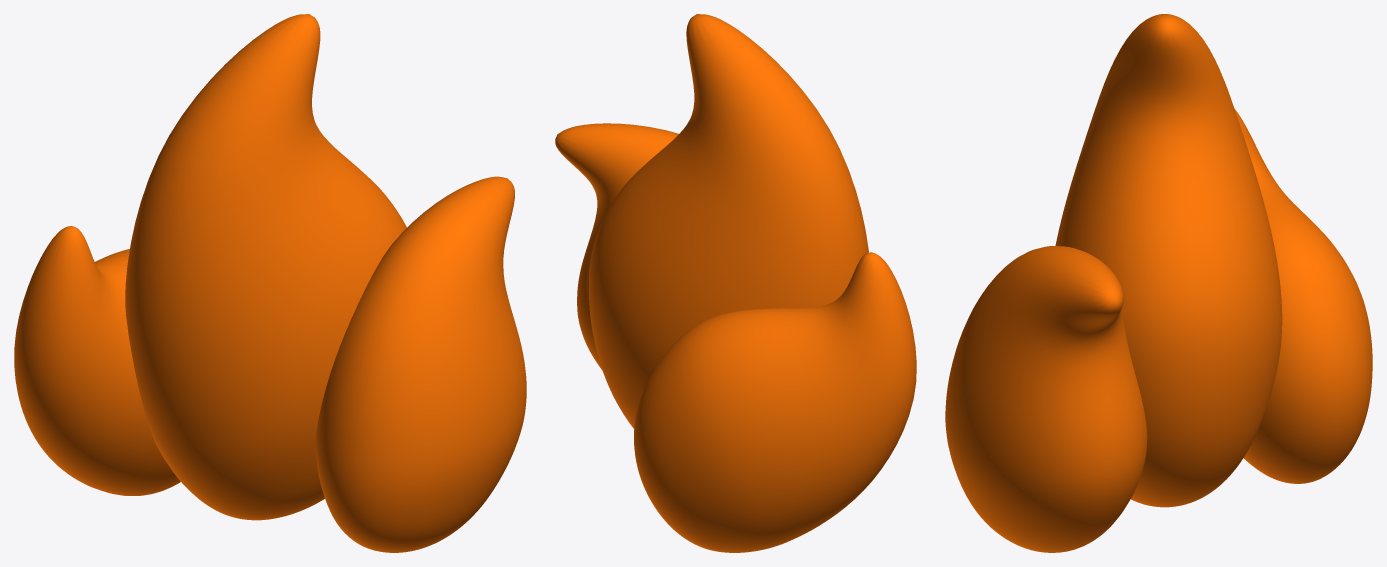
The model's file is fire-emoji-animated-3d-icon-1138672277325.glb.
The picture shows the model from 3 angles, left to right: view 1: azimuth 30°, elevation 25°; view 2: azimuth 150°, elevation 25°; view 3: azimuth 270°, elevation 25°; orthographic projection. The views are drawn at different scales.
Visible parts, largest first — view 1: Sphere.010, Sphere.012, Sphere.011; view 2: Sphere.010, Sphere.011, Sphere.012; view 3: Sphere.010, Sphere.012, Sphere.011.
Boxes of the visible parts, <box> form: Sphere.010: <box>125,14,406,520</box>; Sphere.012: <box>315,176,526,552</box>; Sphere.011: <box>14,226,180,495</box>; Sphere.010: <box>589,14,868,428</box>; Sphere.011: <box>634,252,916,552</box>; Sphere.012: <box>555,123,678,369</box>; Sphere.010: <box>1055,14,1282,507</box>; Sphere.012: <box>945,246,1147,552</box>; Sphere.011: <box>1234,109,1372,483</box>.
Size of the model in its own units: 1.51 by 1.65 by 1.27.
